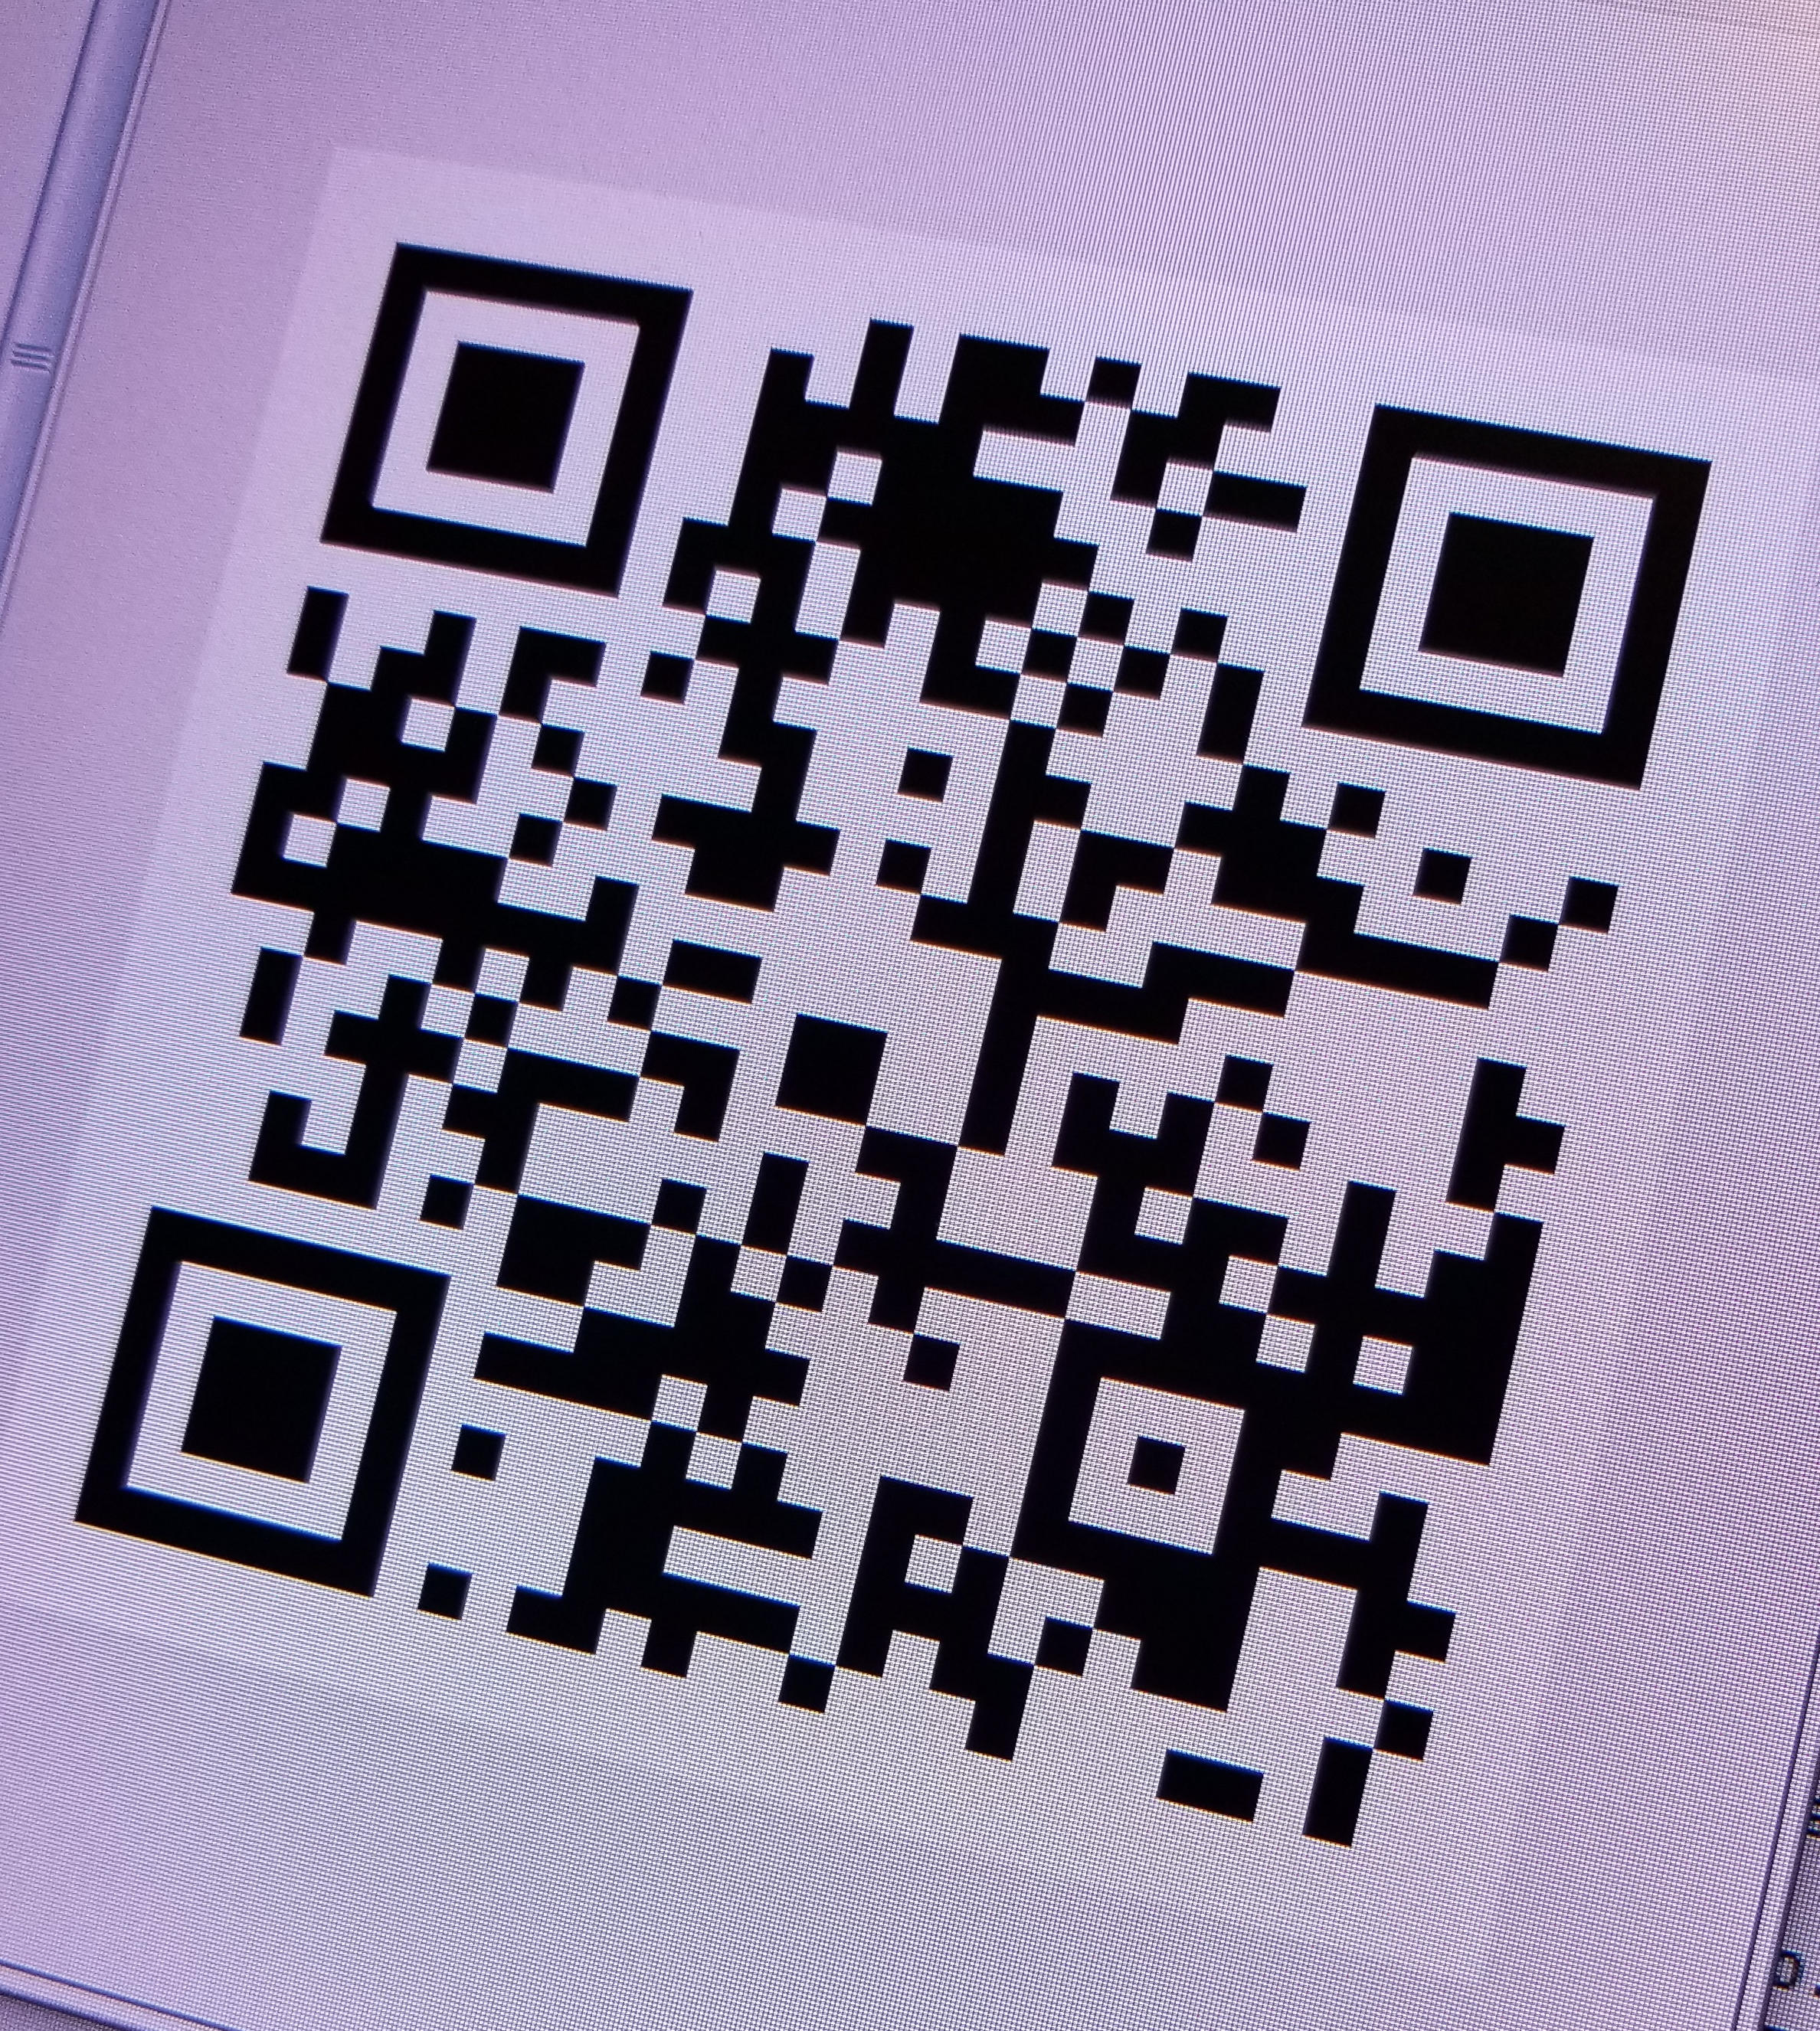QR_CODE: (56, 135, 1746, 1899)
